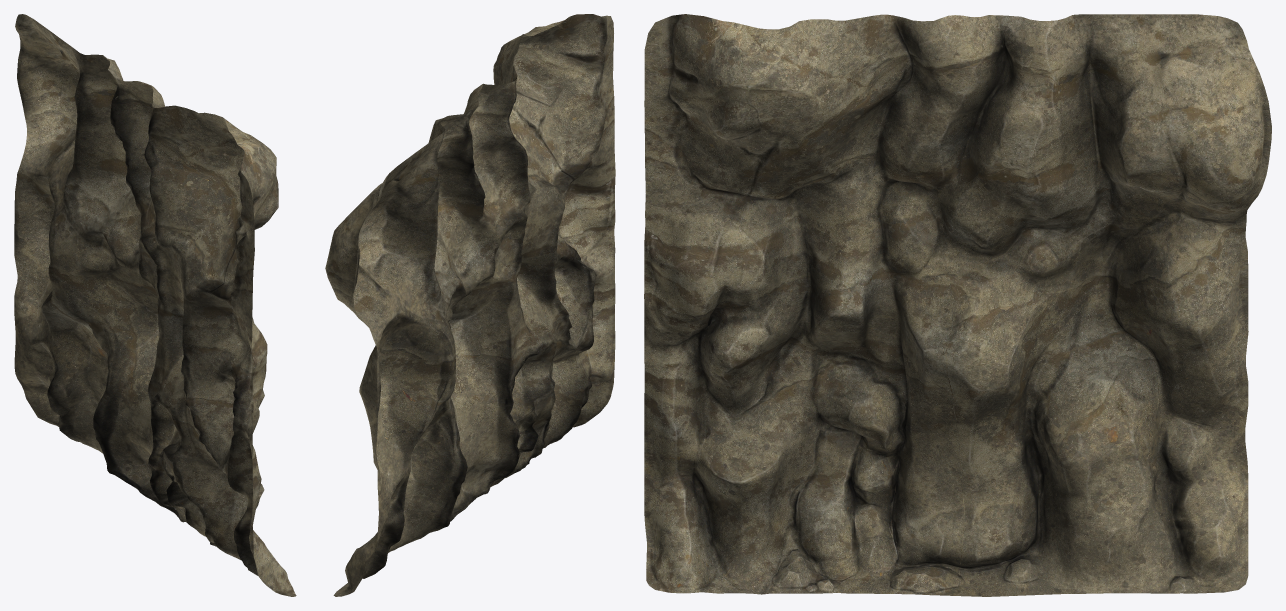
The model's file is cave_saltmine_jagged_wall_flat_01.dae.
3 renders of one model, left to right at view 1: azimuth 30°, elevation 25°; view 2: azimuth 150°, elevation 25°; view 3: azimuth 270°, elevation 25°, orthographic. The views are drawn at different scales.
Visible parts, largest first — view 1: wall_1_low; view 2: wall_1_low; view 3: wall_1_low.
Part boxes in pixels (left/top/right/bottom): wall_1_low: left=14, top=14, right=296, bottom=596; wall_1_low: left=325, top=14, right=615, bottom=596; wall_1_low: left=644, top=14, right=1271, bottom=596.
Bounding box in the file's own units: 0.8418 × 4.11 × 4.16.
